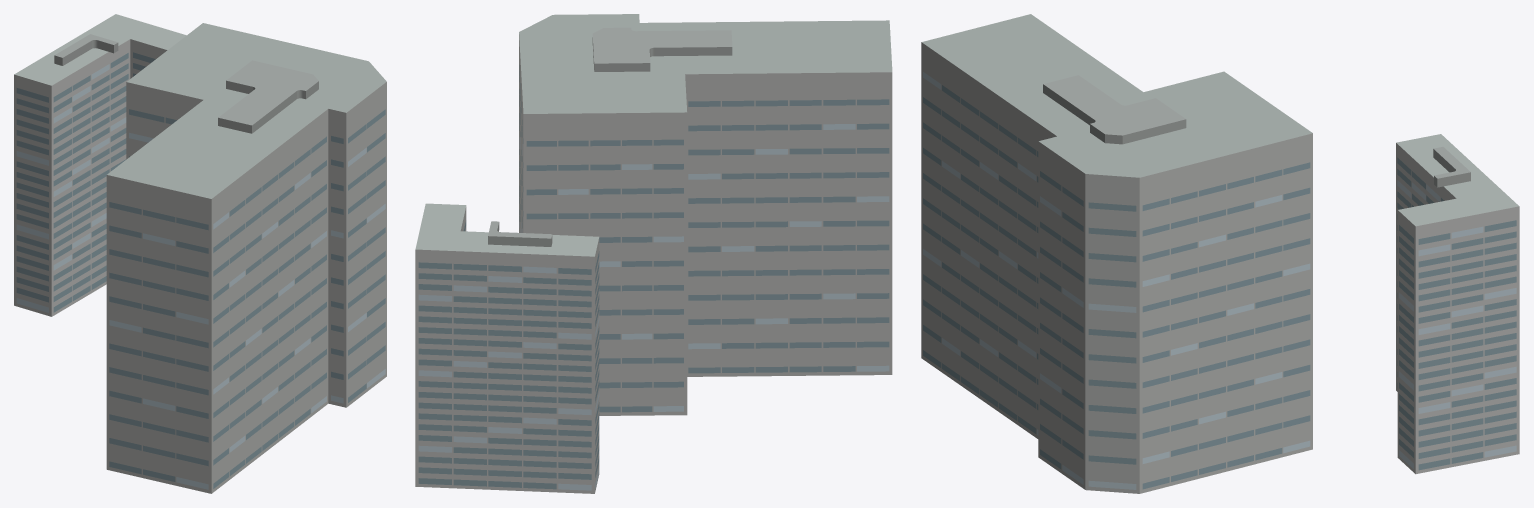
Rendered from apt-a10024793.glb.
3 renders of one model, left to right at view 1: azimuth 30°, elevation 25°; view 2: azimuth 150°, elevation 25°; view 3: azimuth 270°, elevation 25°, orthographic. The views are drawn at different scales.
Visible parts, largest first — view 1: apt-a10024793; view 2: apt-a10024793; view 3: apt-a10024793.
Boxes of the visible parts, left/top/right/bottom form: apt-a10024793: left=14, top=14, right=386, bottom=493; apt-a10024793: left=415, top=14, right=892, bottom=493; apt-a10024793: left=921, top=14, right=1519, bottom=493.
Size of the model in its own units: 95.09 by 88 by 147.
